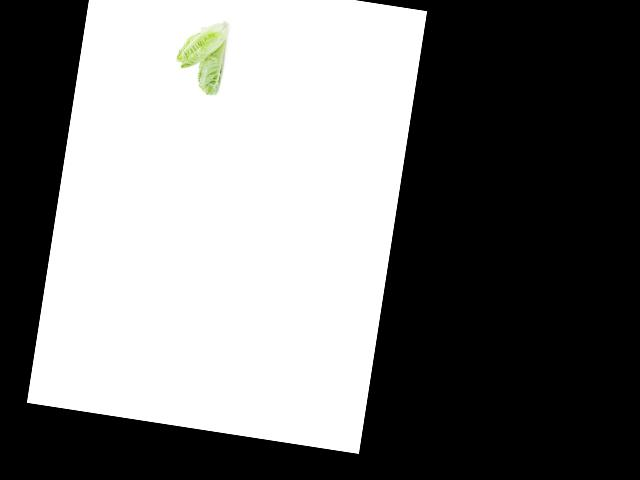lettuce: (192, 34, 232, 102)
